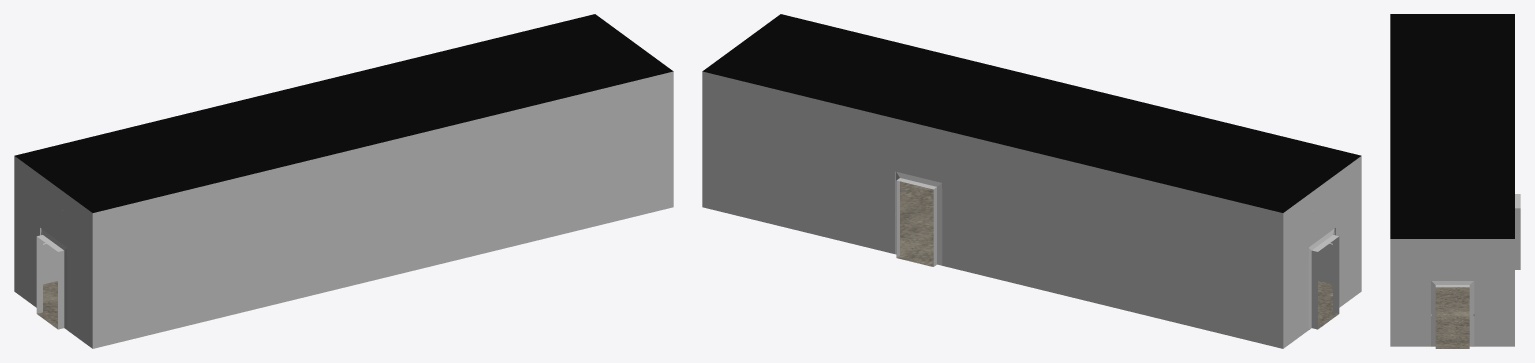
File: hallway4x.FBX
The picture shows the model from 3 angles, left to right: view 1: azimuth 30°, elevation 25°; view 2: azimuth 150°, elevation 25°; view 3: azimuth 270°, elevation 25°; orthographic projection. The views are drawn at different scales.
Parts seen in each view (by area): view 1: Hall4x; view 2: Hall4x; view 3: Hall4x.
Boxes of the visible parts, x1,y1,x2,y2 form: Hall4x: [14, 14, 673, 348]; Hall4x: [702, 14, 1361, 348]; Hall4x: [1390, 14, 1520, 348].
Size of what is drawn, in the model's own units: 1890 by 413 by 453.
